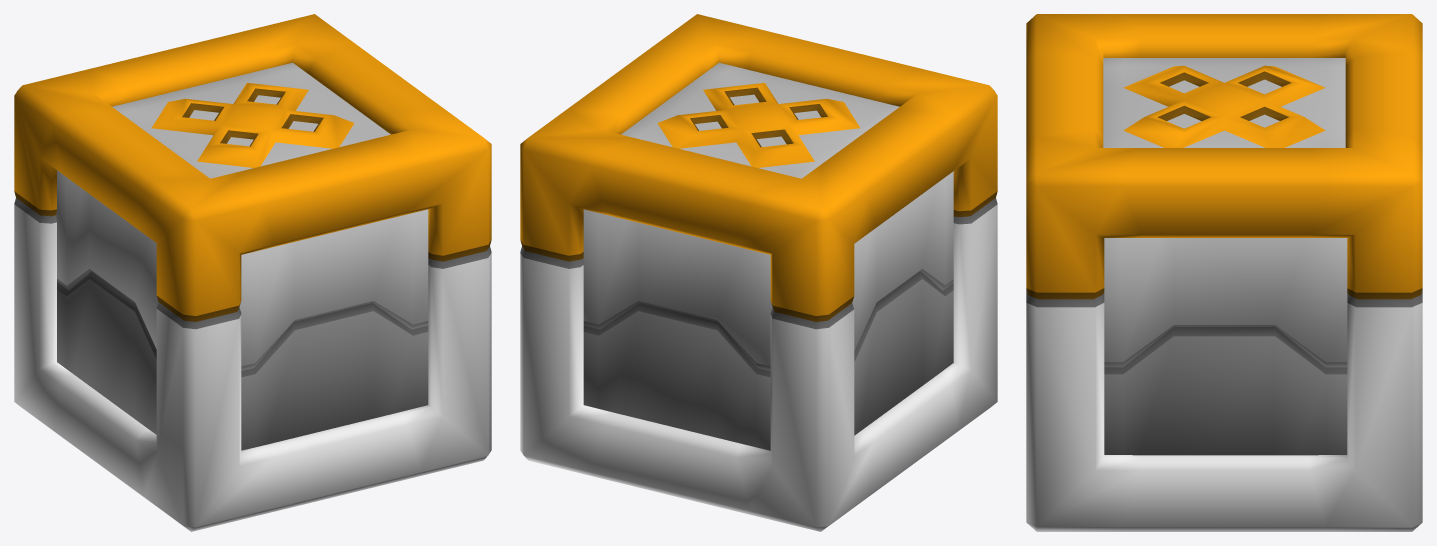
Rendered from Metal Box V2.fbx.
The picture shows the model from 3 angles, left to right: view 1: azimuth 30°, elevation 25°; view 2: azimuth 150°, elevation 25°; view 3: azimuth 270°, elevation 25°; orthographic projection. The views are drawn at different scales.
Parts seen in each view (by area): view 1: Cube.001; view 2: Cube.001; view 3: Cube.001.
Part boxes in pixels (x1,y1,x2,y2): Cube.001: [14, 14, 491, 531]; Cube.001: [520, 14, 997, 531]; Cube.001: [1026, 14, 1422, 531].
Bounding box in the file's own units: 20 × 20 × 20.
